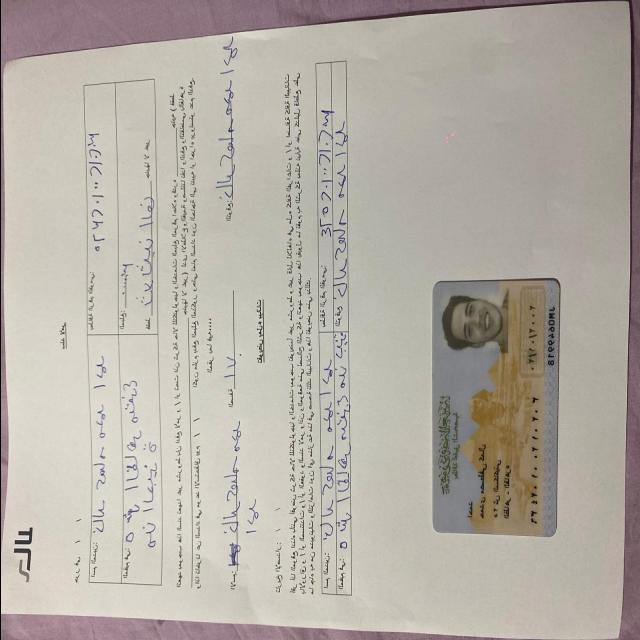id_card: (428, 268, 562, 541)
